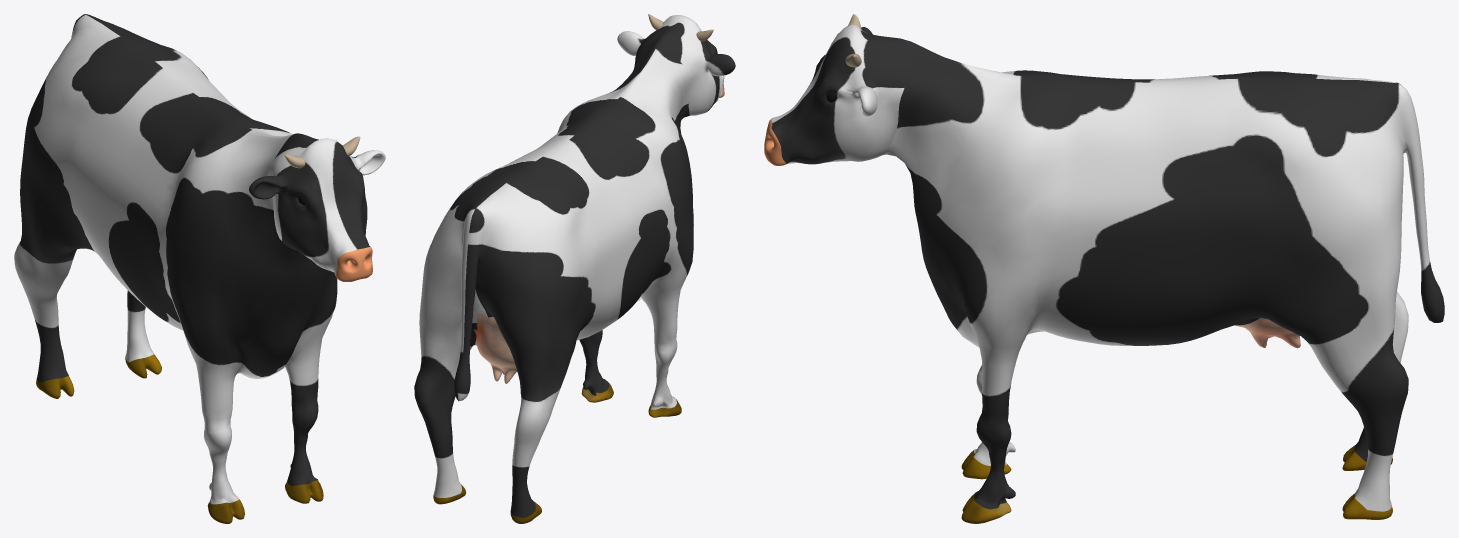
Rendered from vaca.fbx.
3 renders of one model, left to right at view 1: azimuth 30°, elevation 25°; view 2: azimuth 150°, elevation 25°; view 3: azimuth 270°, elevation 25°, orthographic. The views are drawn at different scales.
Visible parts, largest first — view 1: vaca1_1; view 2: vaca1_1; view 3: vaca1_1.
Part boxes in pixels (x1=…): vaca1_1: x1=14, y1=14, x2=385, y2=523; vaca1_1: x1=414, y1=14, x2=735, y2=523; vaca1_1: x1=764, y1=14, x2=1444, y2=523.
Size of the model in its own units: 5.67 by 13.86 by 18.25.
